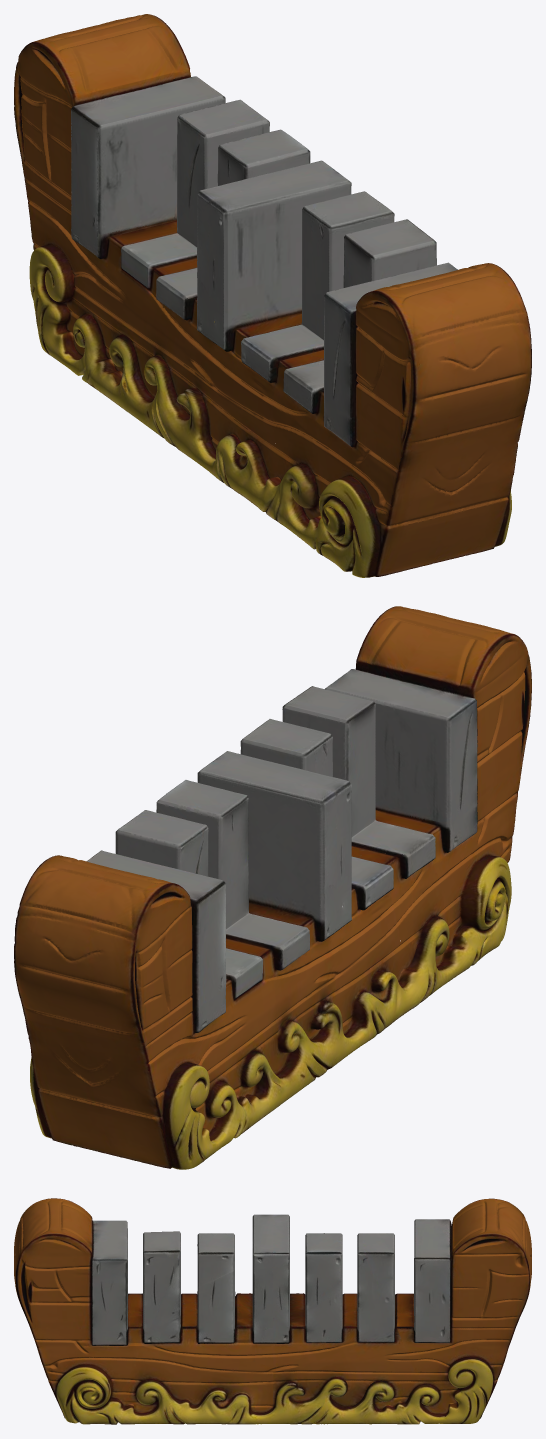
File: gamelanan.glb
3 views of the same model, one above another, from view 1: azimuth 30°, elevation 25°; view 2: azimuth 150°, elevation 25°; view 3: azimuth 270°, elevation 25° (orthographic). The views are drawn at different scales.
Visible parts, largest first — view 1: tripo_node_e95759cc-01bc-4111-8300-e61ee2efecad; view 2: tripo_node_e95759cc-01bc-4111-8300-e61ee2efecad; view 3: tripo_node_e95759cc-01bc-4111-8300-e61ee2efecad.
Part boxes in pixels (left/top/right/bottom): tripo_node_e95759cc-01bc-4111-8300-e61ee2efecad: left=14, top=14, right=531, bottom=577; tripo_node_e95759cc-01bc-4111-8300-e61ee2efecad: left=14, top=606, right=531, bottom=1169; tripo_node_e95759cc-01bc-4111-8300-e61ee2efecad: left=14, top=1198, right=531, bottom=1424.
Bounding box in the file's own units: 0.2479 × 0.3944 × 1.
1 material, 1 textured.
